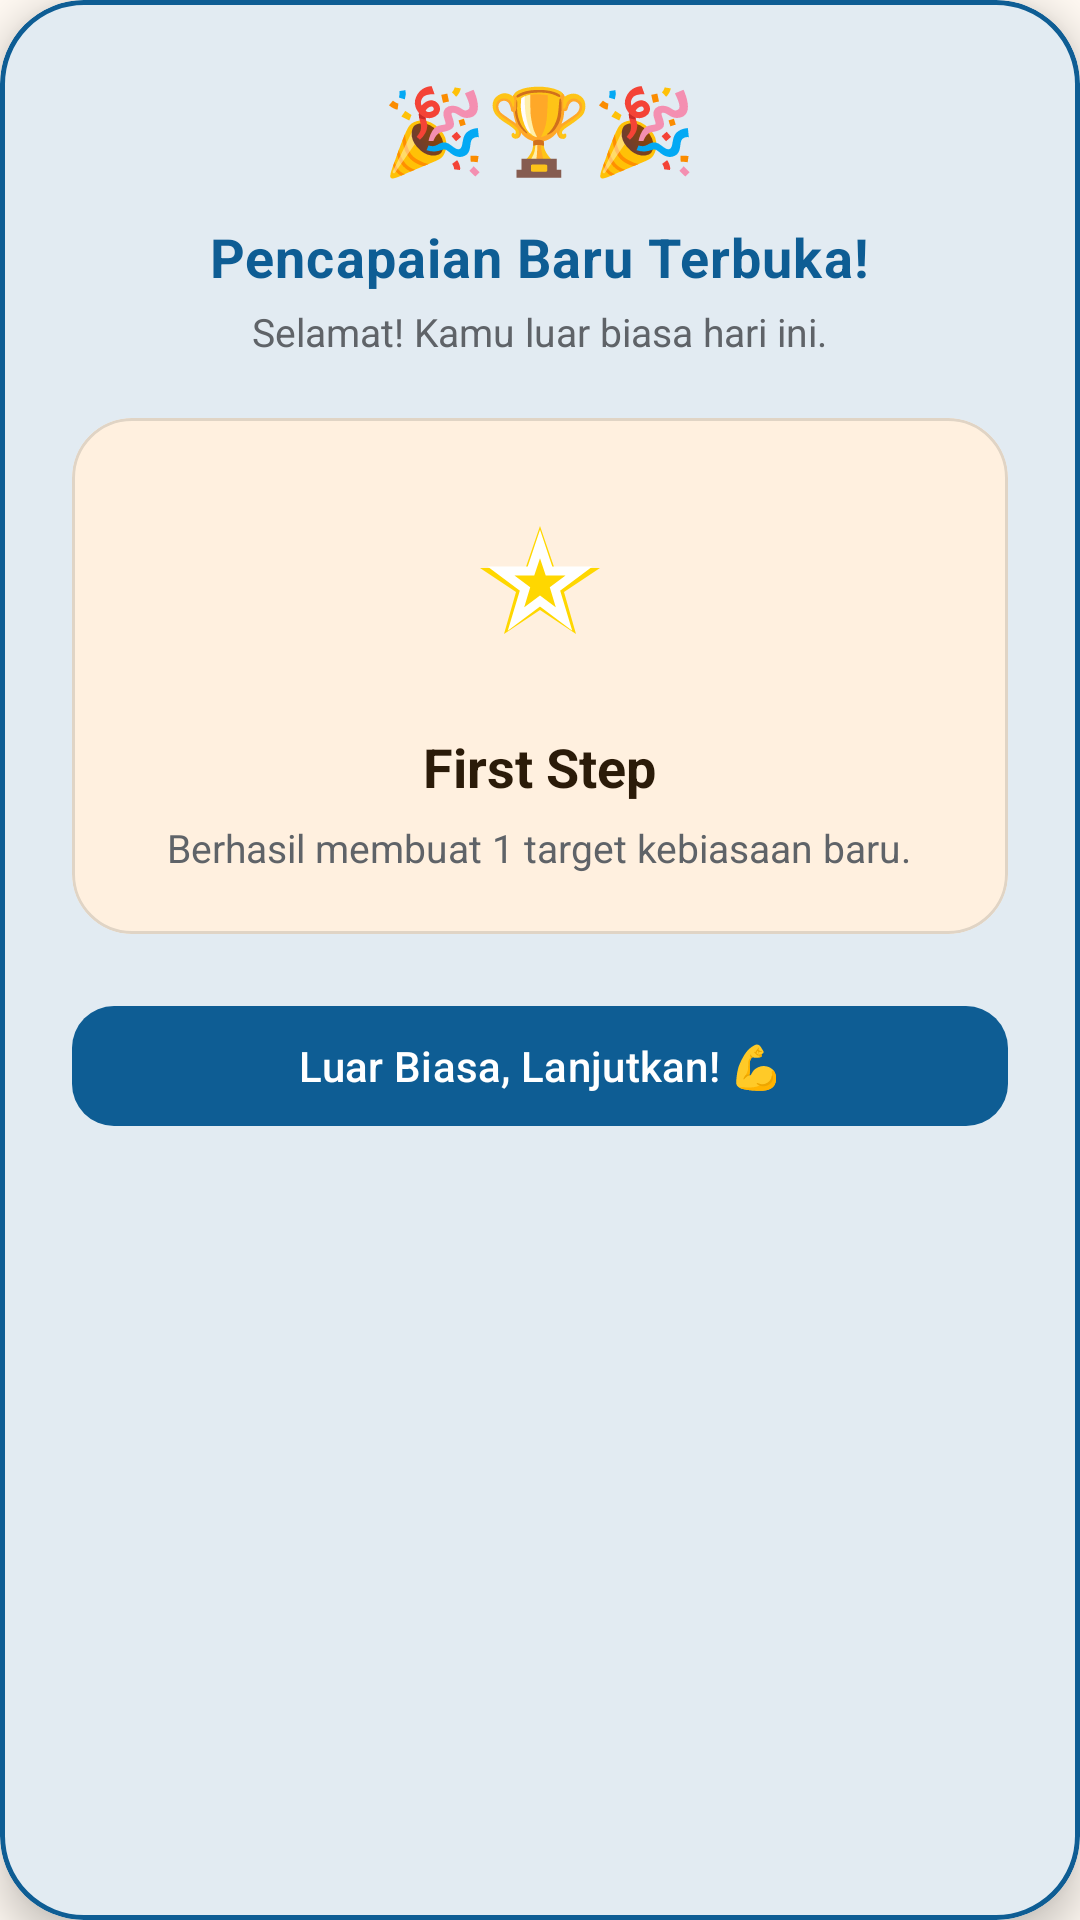

Icon click points for this 1080x1920 phone screenshot, format point (x, y):
Unlocked Badge Icon: point (540, 580)
